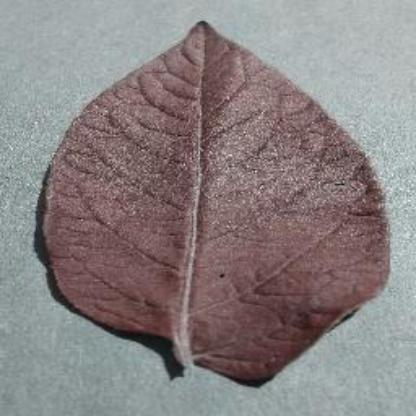Healthy-plant: (35, 17, 398, 388)
